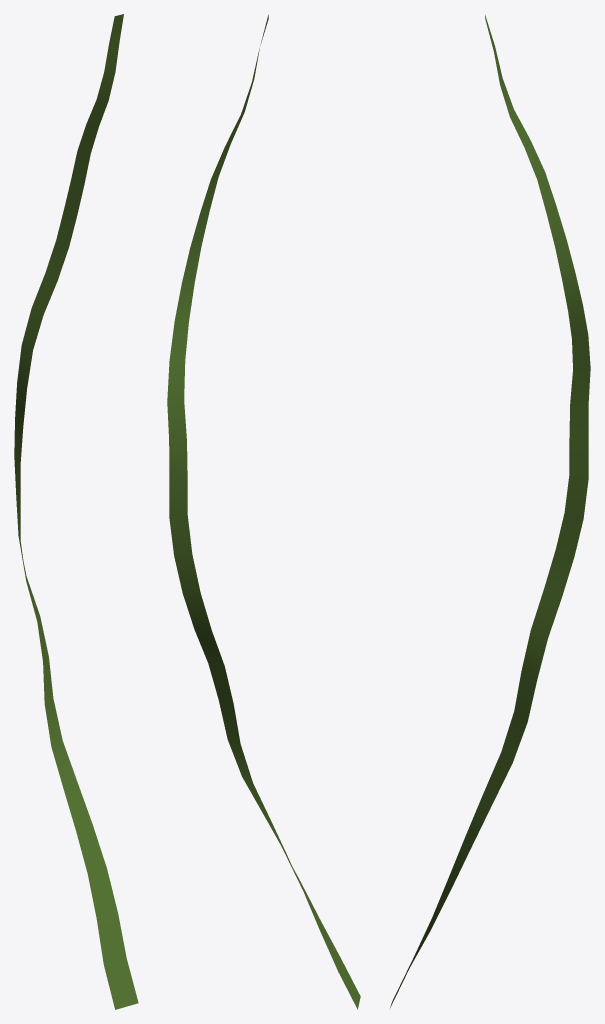
File: plant_swamp_kelp_long_solo_J.fbx
3 views of the same model, side by side, from view 1: azimuth 90°, elevation 25°; view 2: azimuth 150°, elevation 25°; view 3: azimuth 330°, elevation 25° (orthographic). The views are drawn at different scales.
Visible parts, largest first — view 1: plant_swamp_kelp_long_solo_J; view 2: plant_swamp_kelp_long_solo_J; view 3: plant_swamp_kelp_long_solo_J.
Part boxes in pixels (x1=…): plant_swamp_kelp_long_solo_J: x1=14, y1=14, x2=138, y2=1009; plant_swamp_kelp_long_solo_J: x1=167, y1=14, x2=360, y2=1009; plant_swamp_kelp_long_solo_J: x1=390, y1=15, x2=590, y2=1007.
Size of the model in its own units: 42.11 by 265 by 31.35.
